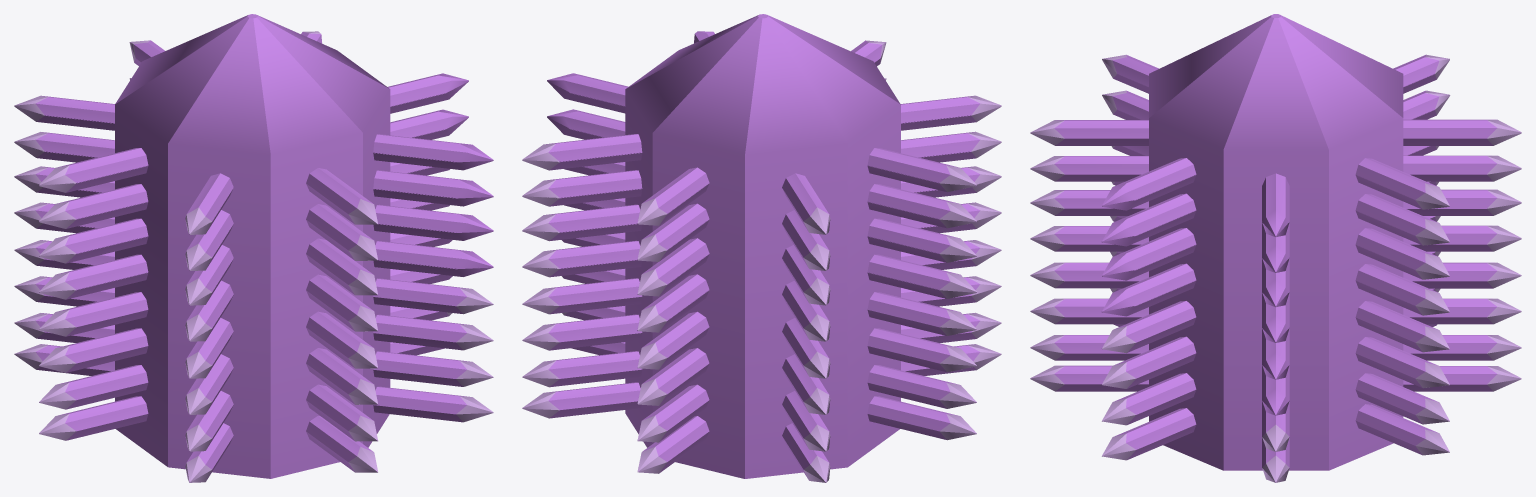
File: round_2.fbx
3 views of the same model, side by side, from view 1: azimuth 30°, elevation 25°; view 2: azimuth 150°, elevation 25°; view 3: azimuth 270°, elevation 25° (orthographic).
Parts seen in each view (by area): view 1: polySurface107; view 2: polySurface107; view 3: polySurface107.
Part boxes in pixels (x1,y1,x2,y2): polySurface107: (14, 14, 493, 482); polySurface107: (522, 14, 1001, 482); polySurface107: (1030, 14, 1521, 482).
Size of the model in its own units: 35.78 by 32.2 by 35.78.
